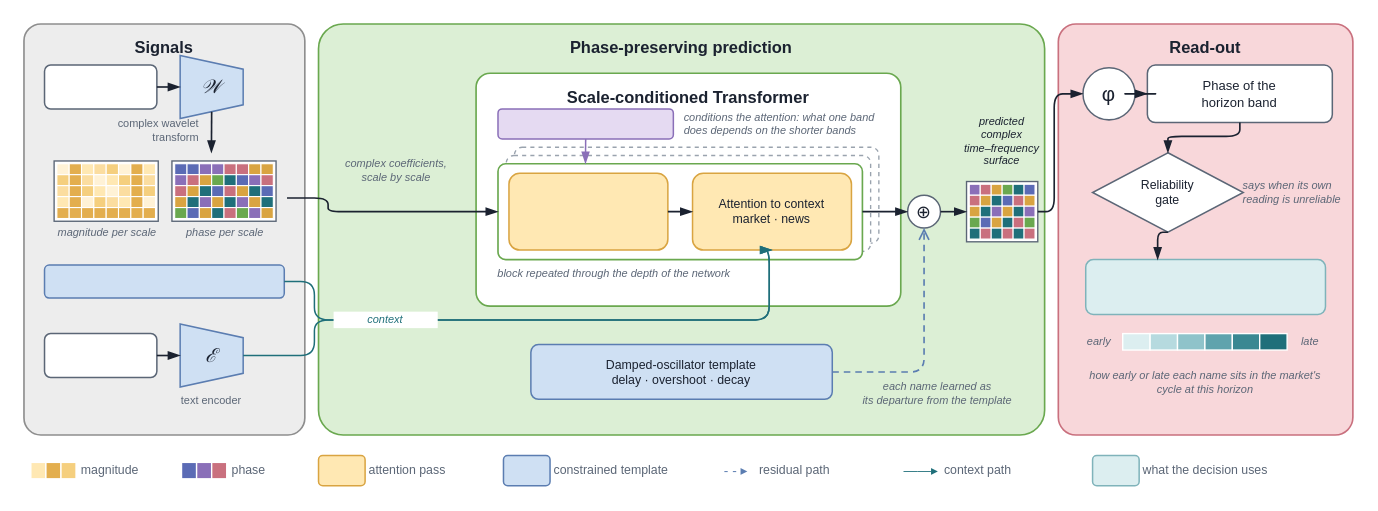
The diagram is 1378 pixels wide and 511 high, and some of its shapes have lost their labels. Each missing label, with the centre of its shape:
"Attention across scales" goes at (x=588, y=211).
"Market panel" goes at (x=163, y=281).
"News stream" goes at (x=100, y=355).
"Rank the cross-section by timing" goes at (x=1205, y=286).
"Return history" goes at (x=100, y=86).
"scale (horizon band)" goes at (x=585, y=123).
